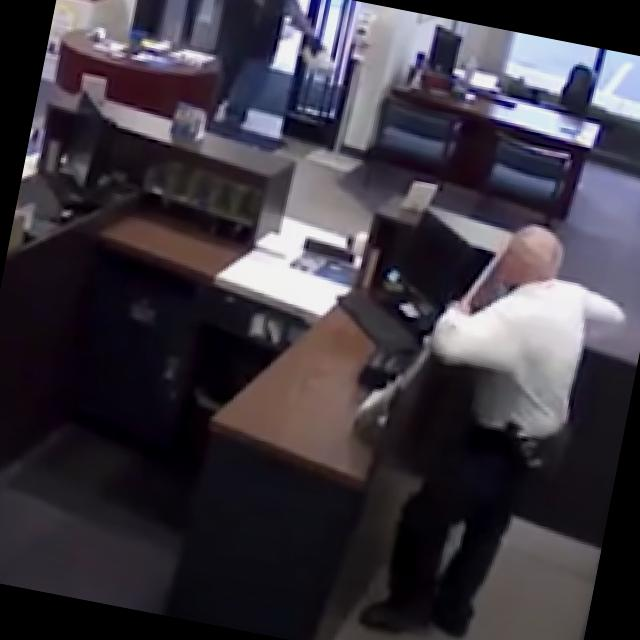person: (357, 205, 640, 640), (203, 0, 345, 138)
